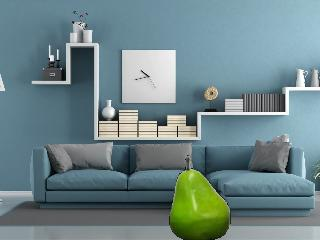pear: (169, 155, 230, 240)
